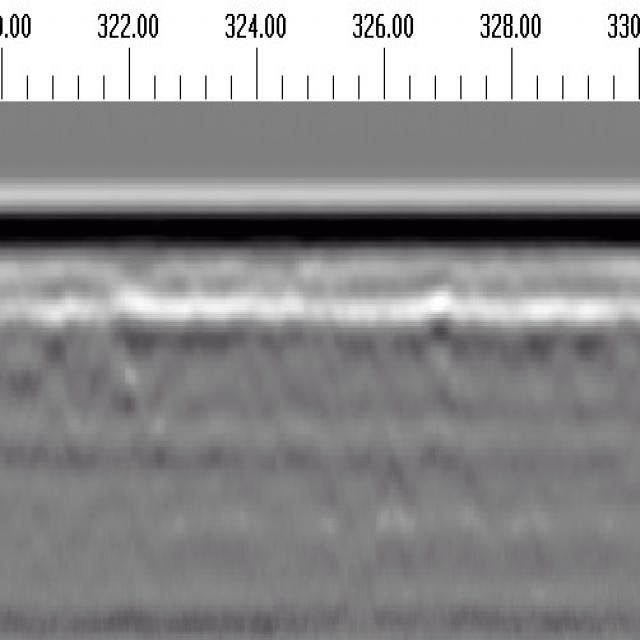loose: (10, 309, 181, 462)
